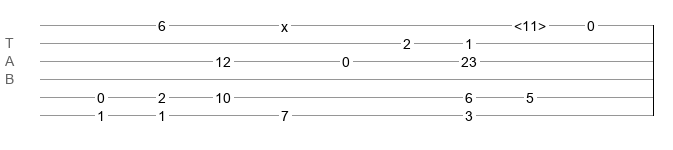0: (97, 90, 105, 100), (342, 54, 350, 64), (587, 18, 595, 28)
1: (97, 108, 105, 118), (158, 108, 166, 118), (465, 36, 473, 46)
10: (215, 90, 231, 100)
12: (215, 54, 231, 64)
2: (158, 90, 166, 100), (403, 36, 411, 46)
23: (461, 54, 477, 64)
3: (465, 108, 473, 118)
5: (526, 90, 534, 100)
6: (158, 18, 166, 28), (465, 90, 473, 100)
7: (281, 108, 289, 118)
harmonic: (514, 18, 546, 28)
x: (281, 19, 288, 27)
